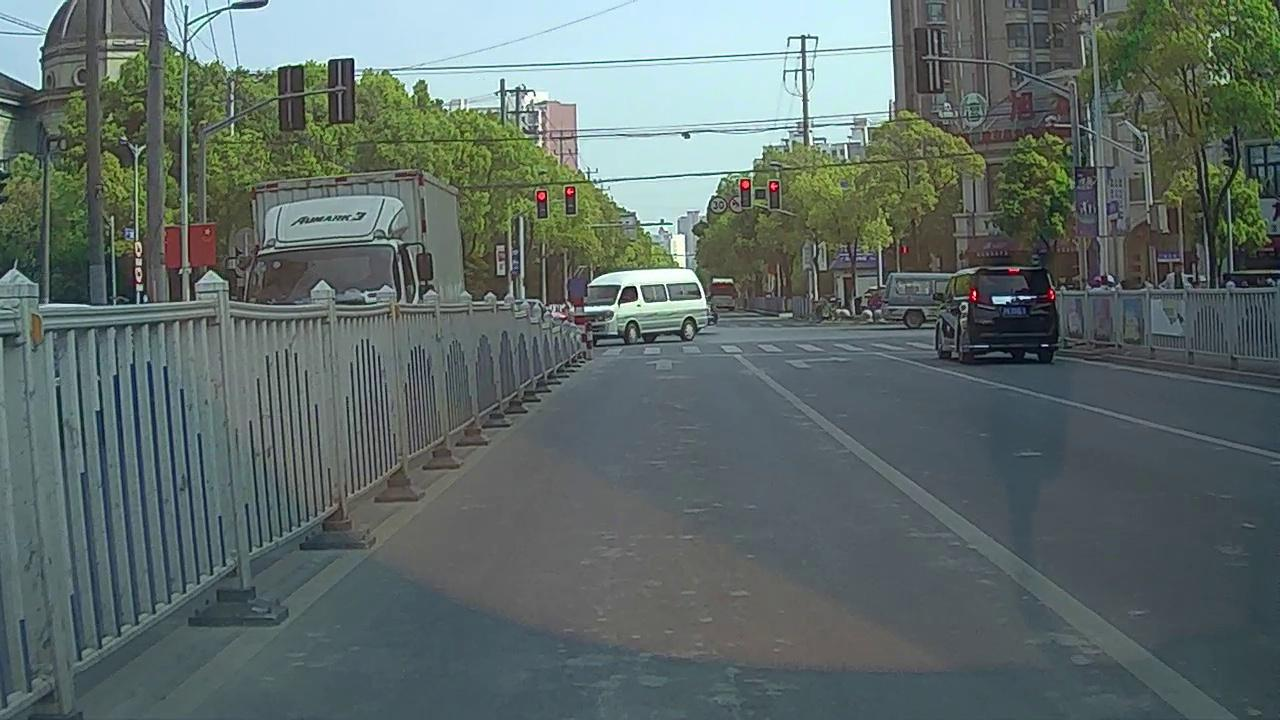traffic_light: (564, 185, 577, 215), (740, 178, 751, 208), (536, 189, 547, 218), (769, 179, 780, 208)
